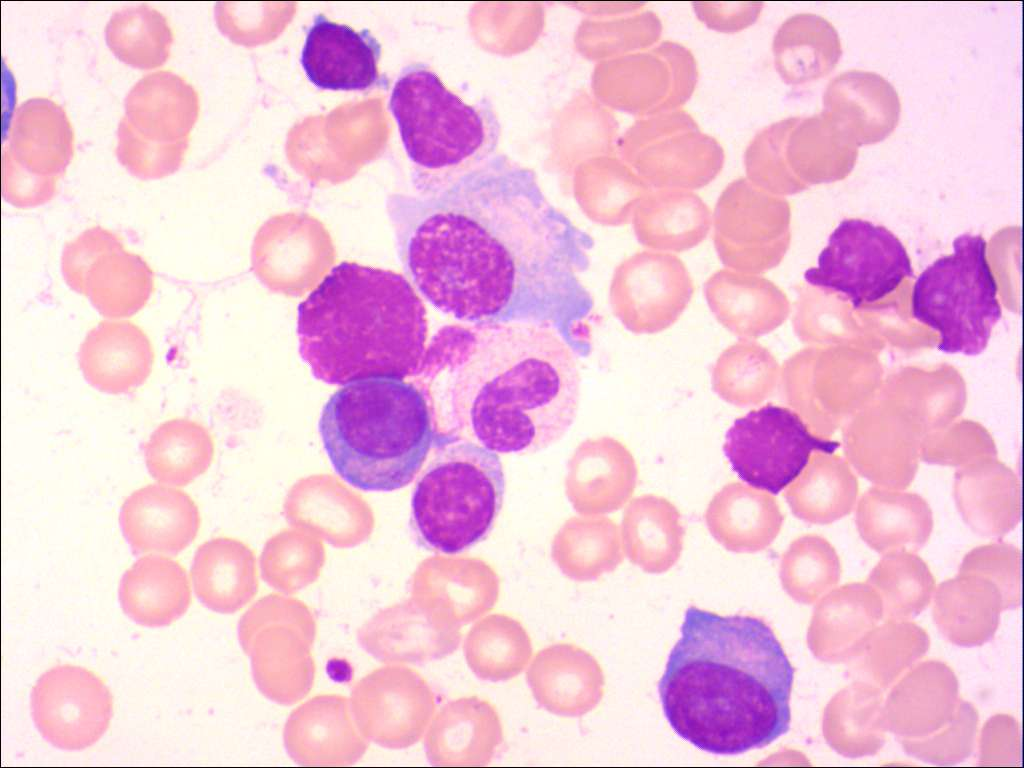32: (384, 58, 504, 197), (404, 438, 508, 560), (295, 8, 389, 95)
5: (444, 319, 583, 461)
51: (379, 149, 600, 361), (651, 600, 800, 761), (313, 373, 439, 497)
x: (291, 257, 486, 389), (907, 228, 1008, 360), (718, 400, 844, 502), (798, 214, 921, 315)
